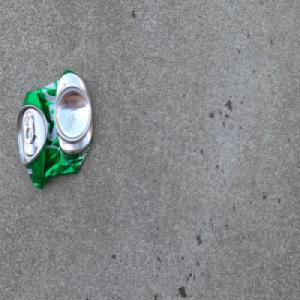SodaCan: (16, 67, 94, 190)
